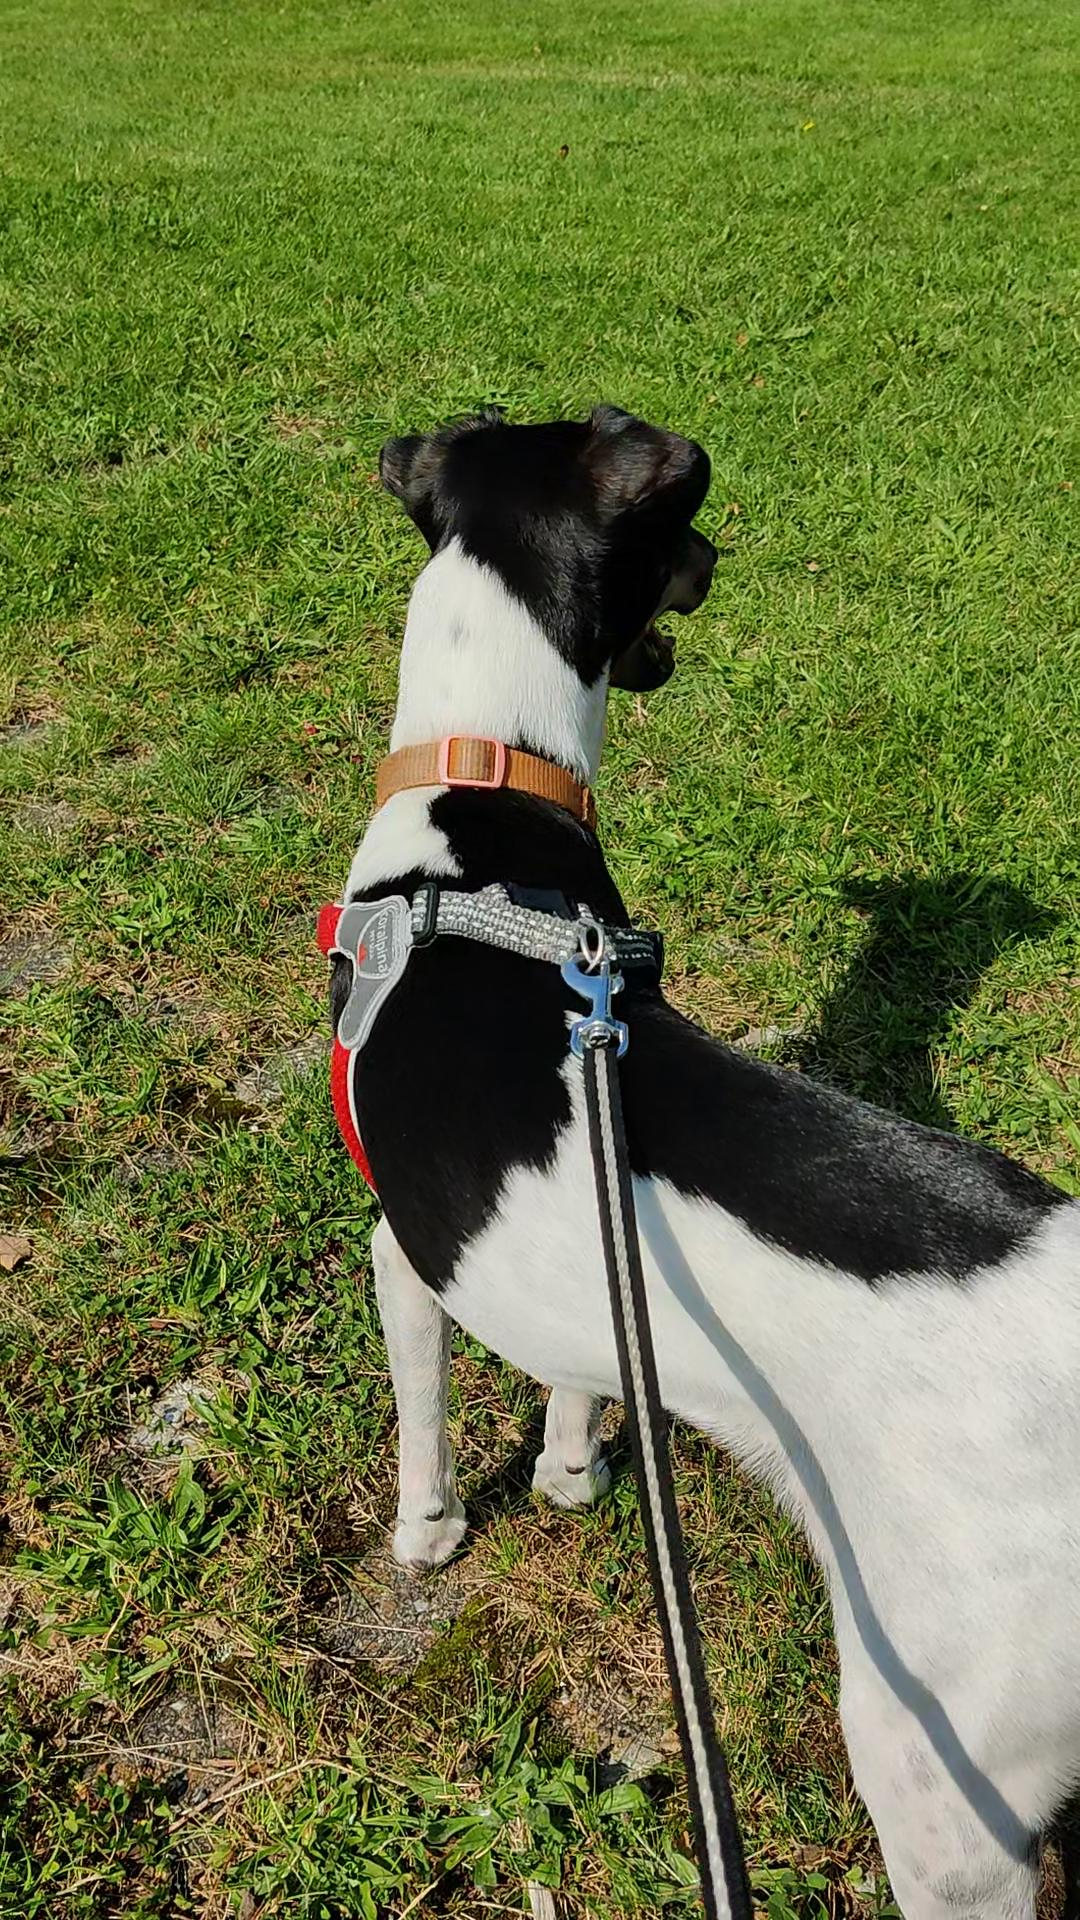Dog: (305, 386, 1079, 1919)
